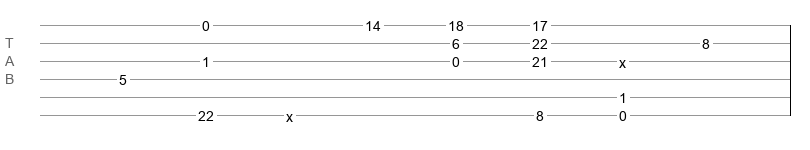0: (202, 18, 210, 28), (452, 54, 460, 64), (619, 108, 627, 118)
1: (202, 54, 210, 64), (619, 90, 627, 100)
14: (365, 18, 381, 28)
17: (532, 18, 548, 28)
18: (448, 18, 464, 28)
21: (532, 54, 548, 64)
22: (198, 108, 214, 118), (532, 36, 548, 46)
5: (119, 72, 127, 82)
6: (452, 36, 460, 46)
8: (536, 108, 544, 118), (702, 36, 710, 46)
x: (286, 109, 293, 117), (619, 55, 626, 63)
